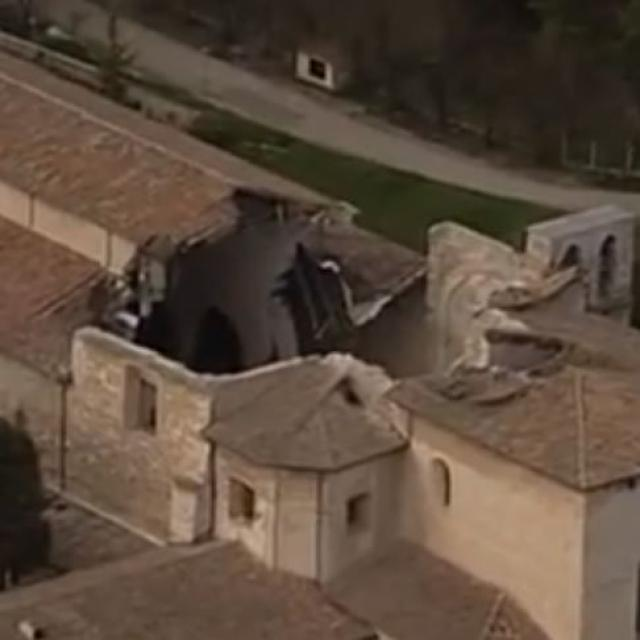collapsed_building: (83, 96, 546, 583)
